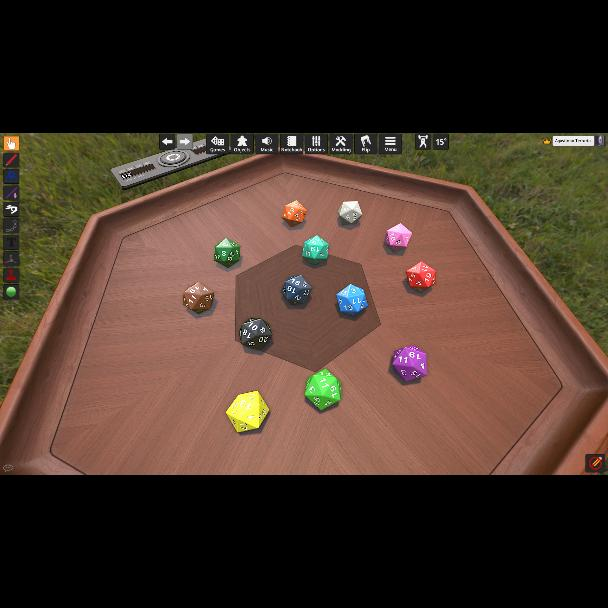d20: (226, 391, 270, 433), (304, 369, 340, 409), (394, 345, 426, 381), (240, 316, 272, 350), (280, 274, 312, 306), (182, 282, 214, 314), (337, 284, 368, 316), (407, 262, 435, 292), (302, 236, 327, 266), (214, 238, 240, 266), (281, 200, 307, 228), (388, 223, 412, 251), (338, 201, 360, 225)
